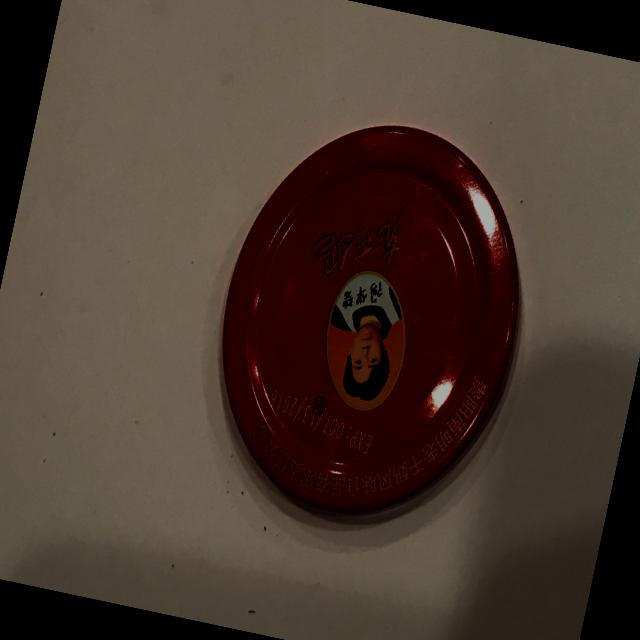Metal: (175, 72, 570, 562)
